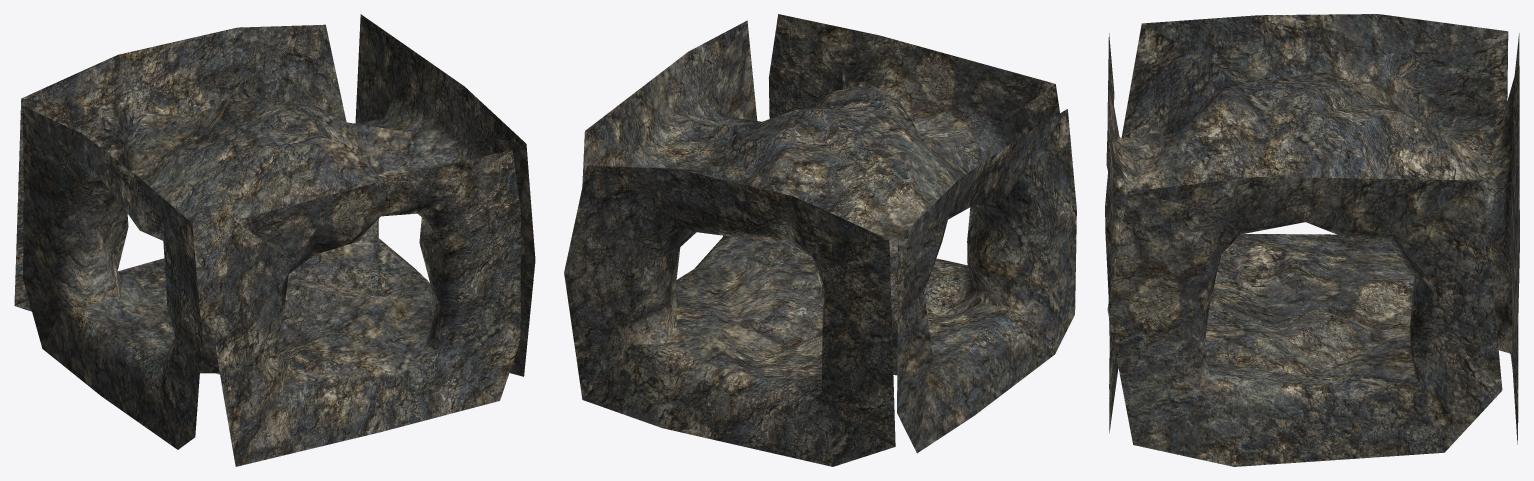
Rendered from Module10_LOD1.fbx.
3 views of the same model, side by side, from view 1: azimuth 30°, elevation 25°; view 2: azimuth 150°, elevation 25°; view 3: azimuth 270°, elevation 25° (orthographic). The views are drawn at different scales.
Parts seen in each view (by area): view 1: cave_el10_800:Group44753; view 2: cave_el10_800:Group44753; view 3: cave_el10_800:Group44753.
Boxes of the visible parts, bbox=[...] form: cave_el10_800:Group44753: bbox=[14, 14, 535, 466]; cave_el10_800:Group44753: bbox=[564, 14, 1076, 466]; cave_el10_800:Group44753: bbox=[1105, 14, 1519, 466].
Size of the model in its own units: 10.6 by 8.09 by 10.48.
